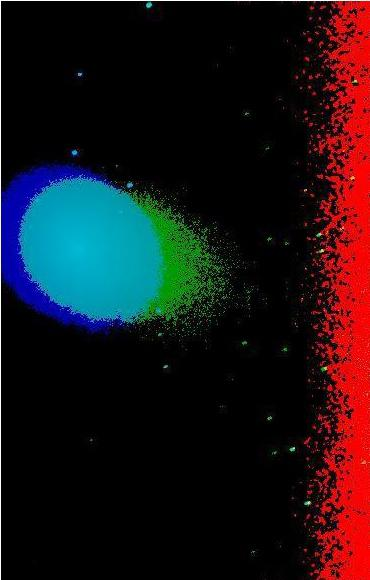star: (126, 192, 156, 222)
